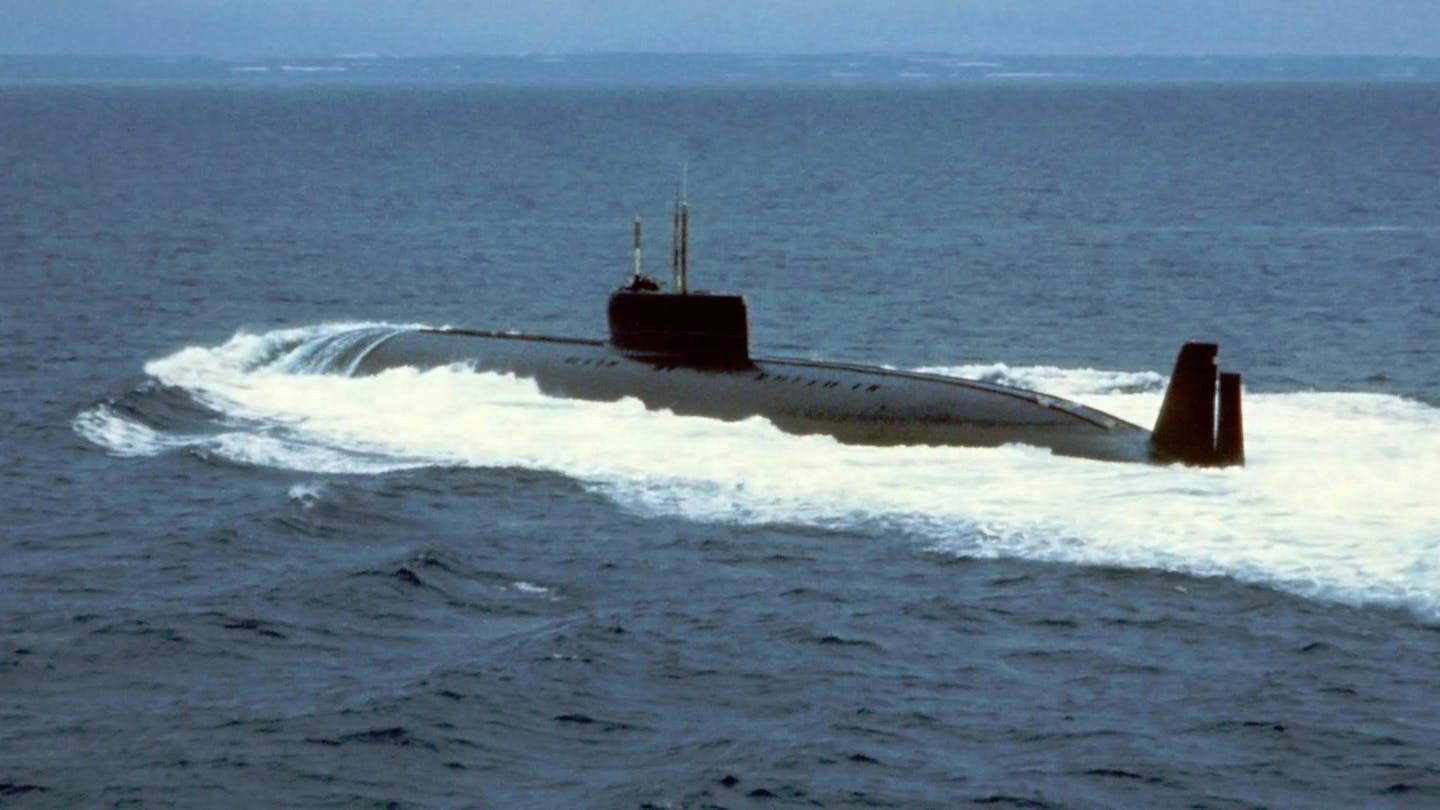Submarine: (76, 132, 1346, 632)
